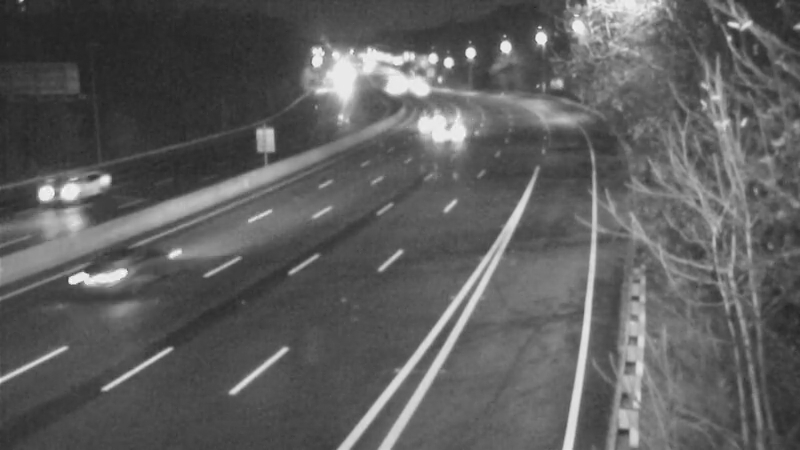vehicle: (61, 239, 141, 319), (14, 153, 94, 233), (409, 87, 459, 137), (427, 112, 477, 162)
